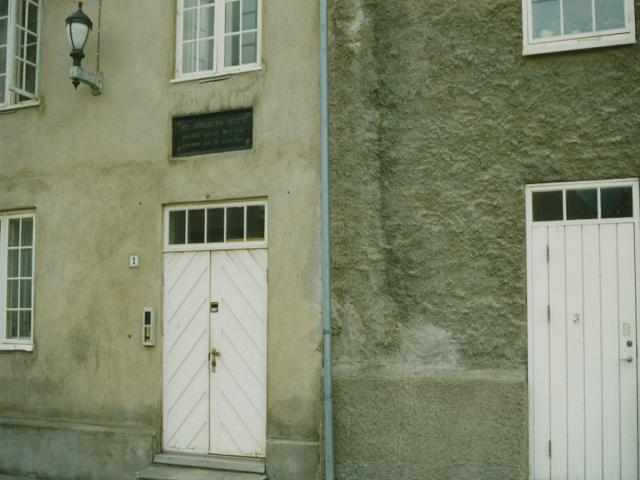Door-handle: (211, 346, 219, 374), (618, 355, 632, 363)
